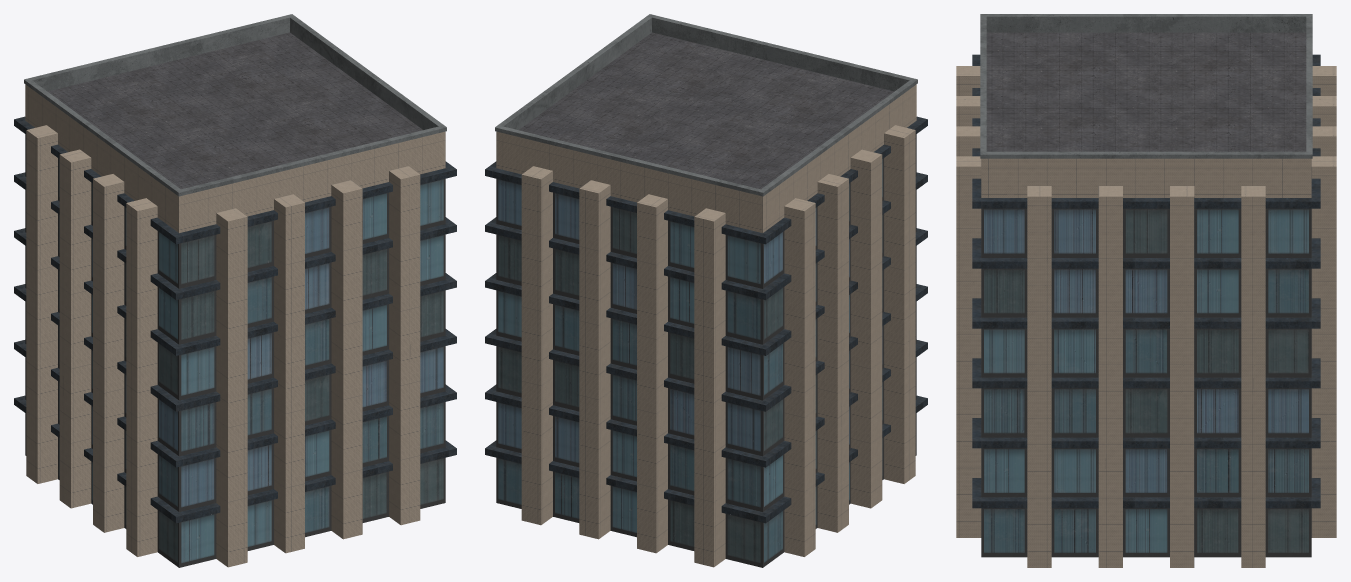
The model's file is jctBld24_B_top_low.fbx.
3 views of the same model, side by side, from view 1: azimuth 30°, elevation 25°; view 2: azimuth 150°, elevation 25°; view 3: azimuth 270°, elevation 25° (orthographic). The views are drawn at different scales.
Parts seen in each view (by area): view 1: jctBld24_B_top_low; view 2: jctBld24_B_top_low; view 3: jctBld24_B_top_low.
Boxes of the visible parts, <box> form: jctBld24_B_top_low: <box>14,14,456,567</box>; jctBld24_B_top_low: <box>485,14,927,567</box>; jctBld24_B_top_low: <box>956,14,1336,567</box>.
Size of the model in its own units: 1728 by 2020 by 1728.
